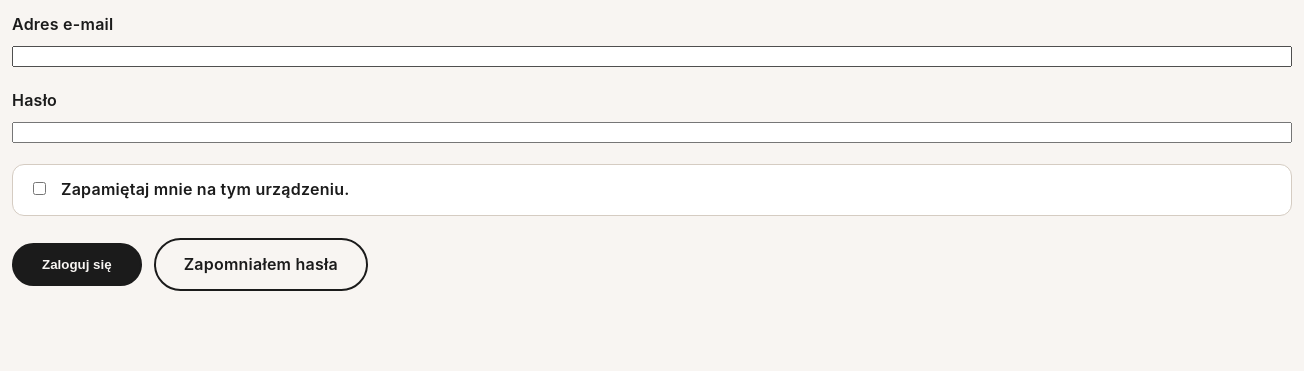
Test: AccountLoginForm › shows an error when e-mail is invalid
Type "niepoprawny" into the field labelled "Adres e-mail" at (652, 56), box [12, 46, 1292, 67]
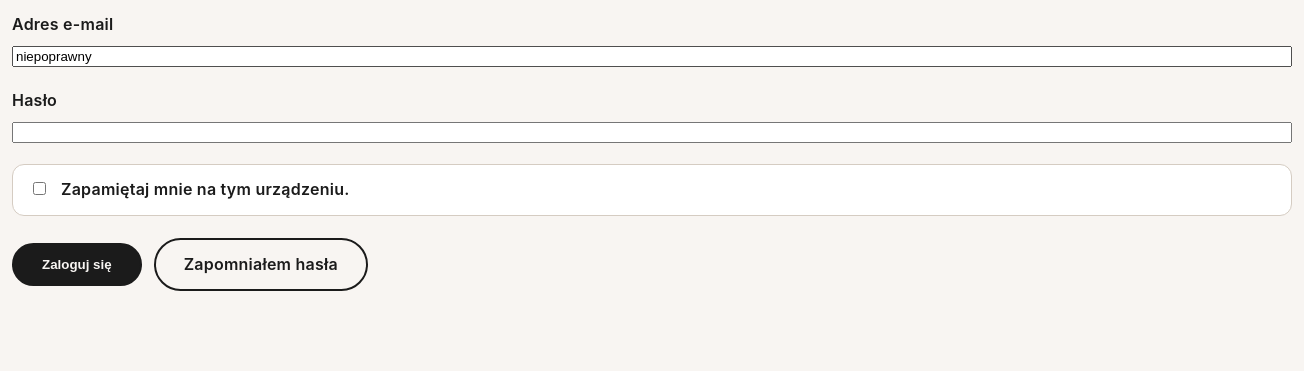
Type "tajnehaslo" into the password field labelled "Hasło" at (652, 132), box [12, 122, 1292, 143]
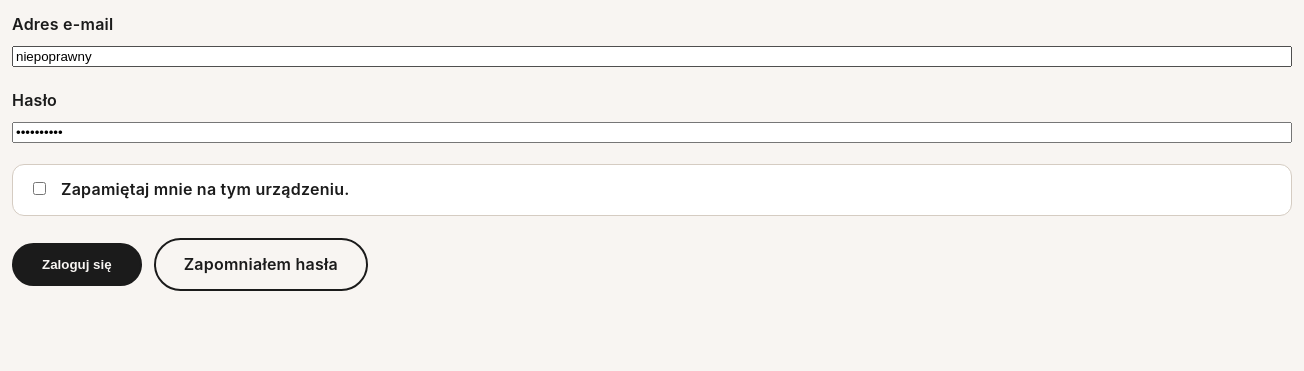
Click the button "Zaloguj się" at (77, 264), box [12, 243, 142, 286]
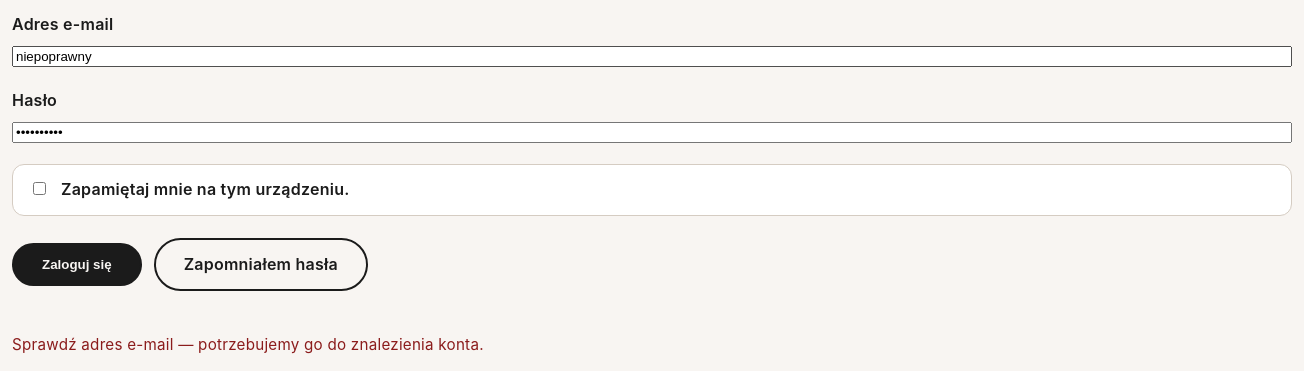
Expected: the text "Sprawdź adres e-mail — potrzebujemy go do znalezienia konta." is shown, [12, 335, 484, 354]
